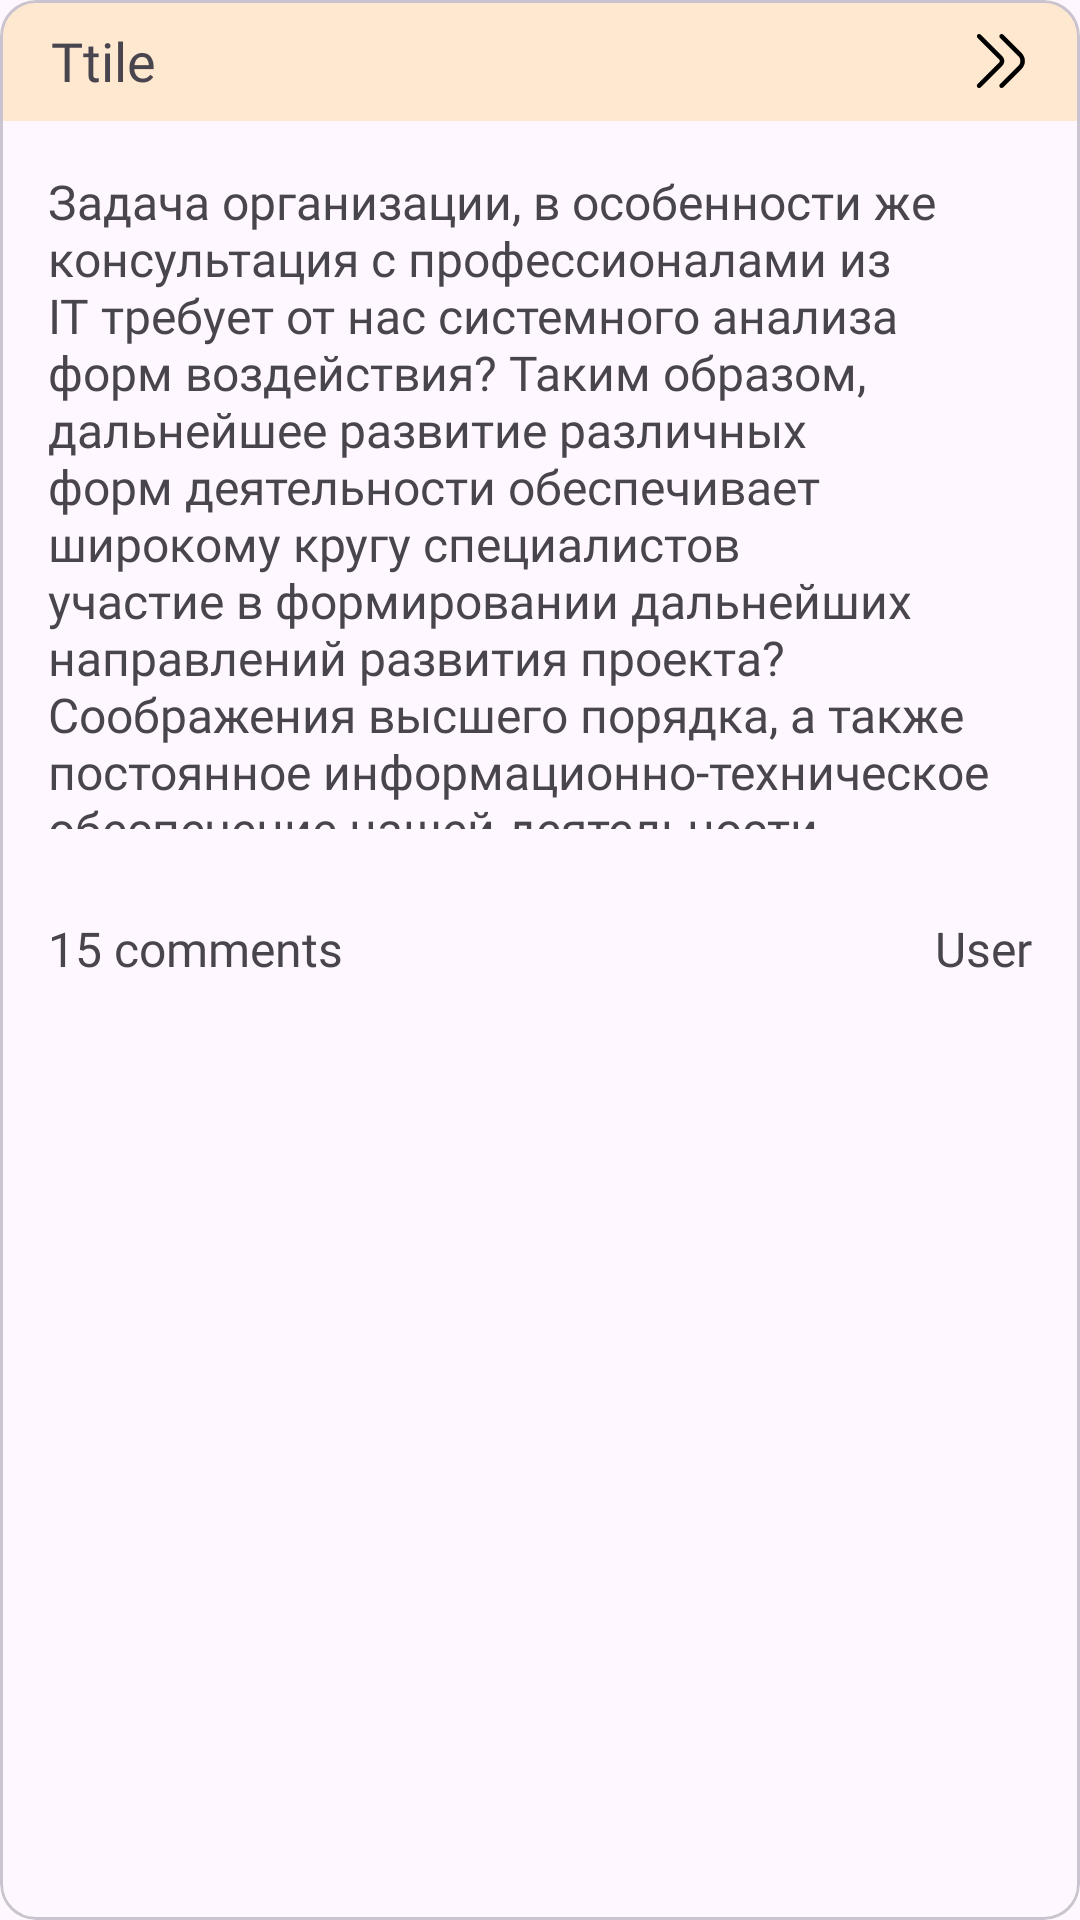

Named icons in this screenshot (1080×1920) and their centers, point (x, y):
arrow: point (1000, 61)
